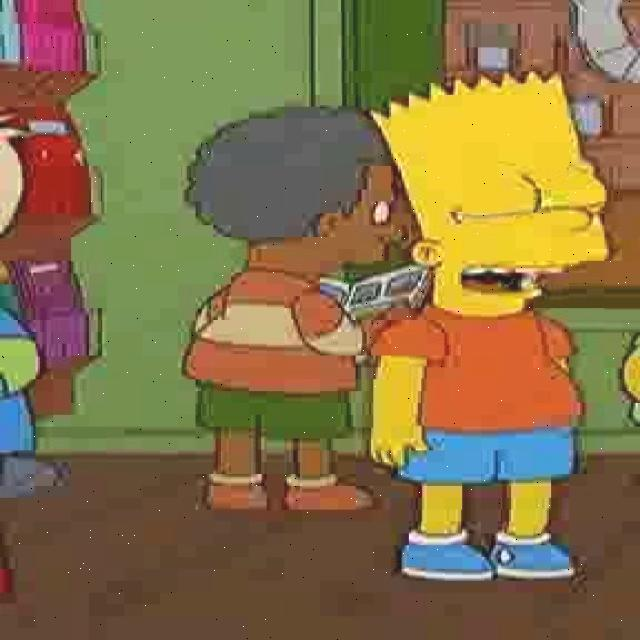Bart Simpson: (370, 67, 616, 321)
